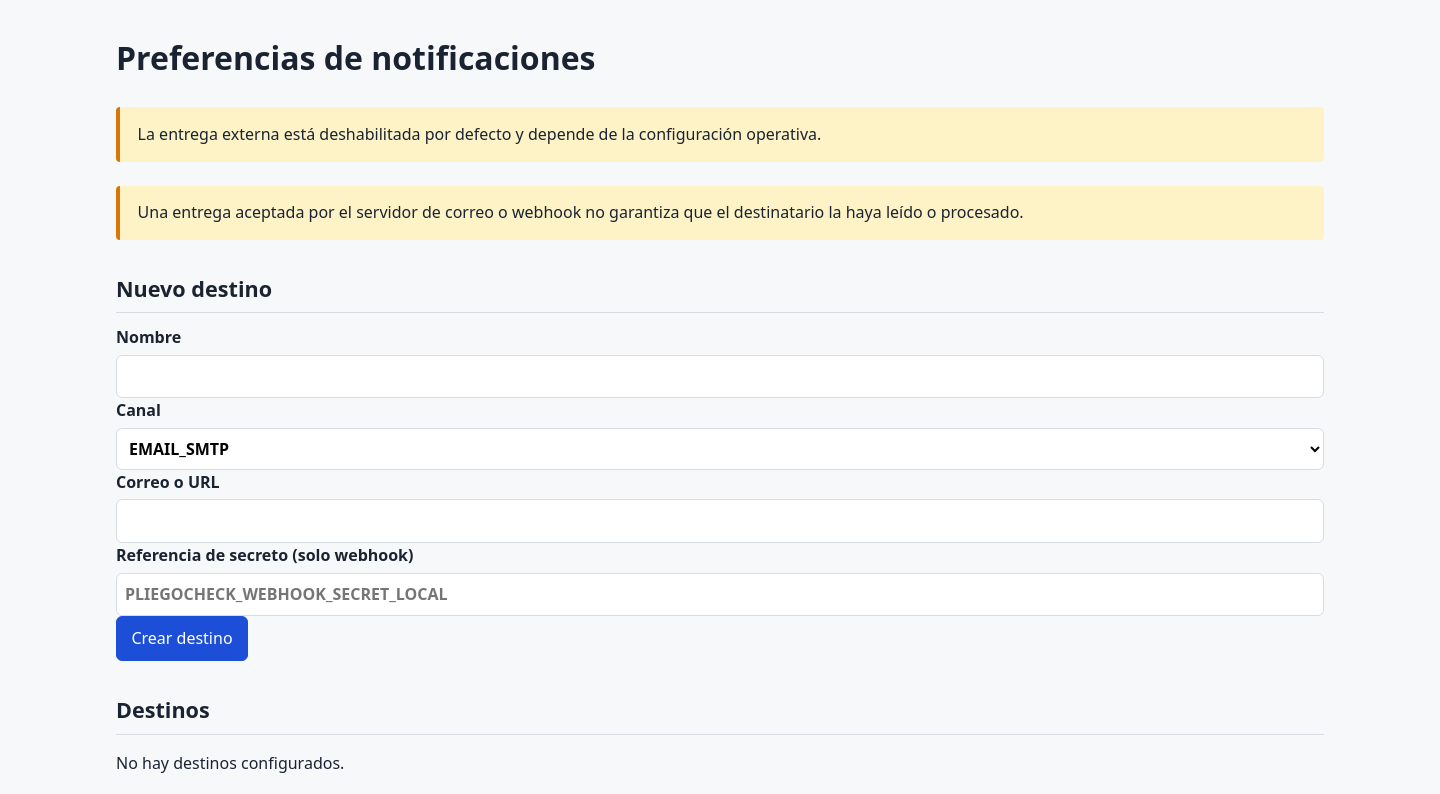
Test case: entrega de notificaciones › crea un destino y refresca el formulario tras la respuesta asíncrona
Check: the text "No hay destinos configurados." is shown, box 116,752 -> 344,774
Type "Mailpit sintético" into the field labelled "Nombre". click: (720, 376)
box: 116,355 -> 1324,398
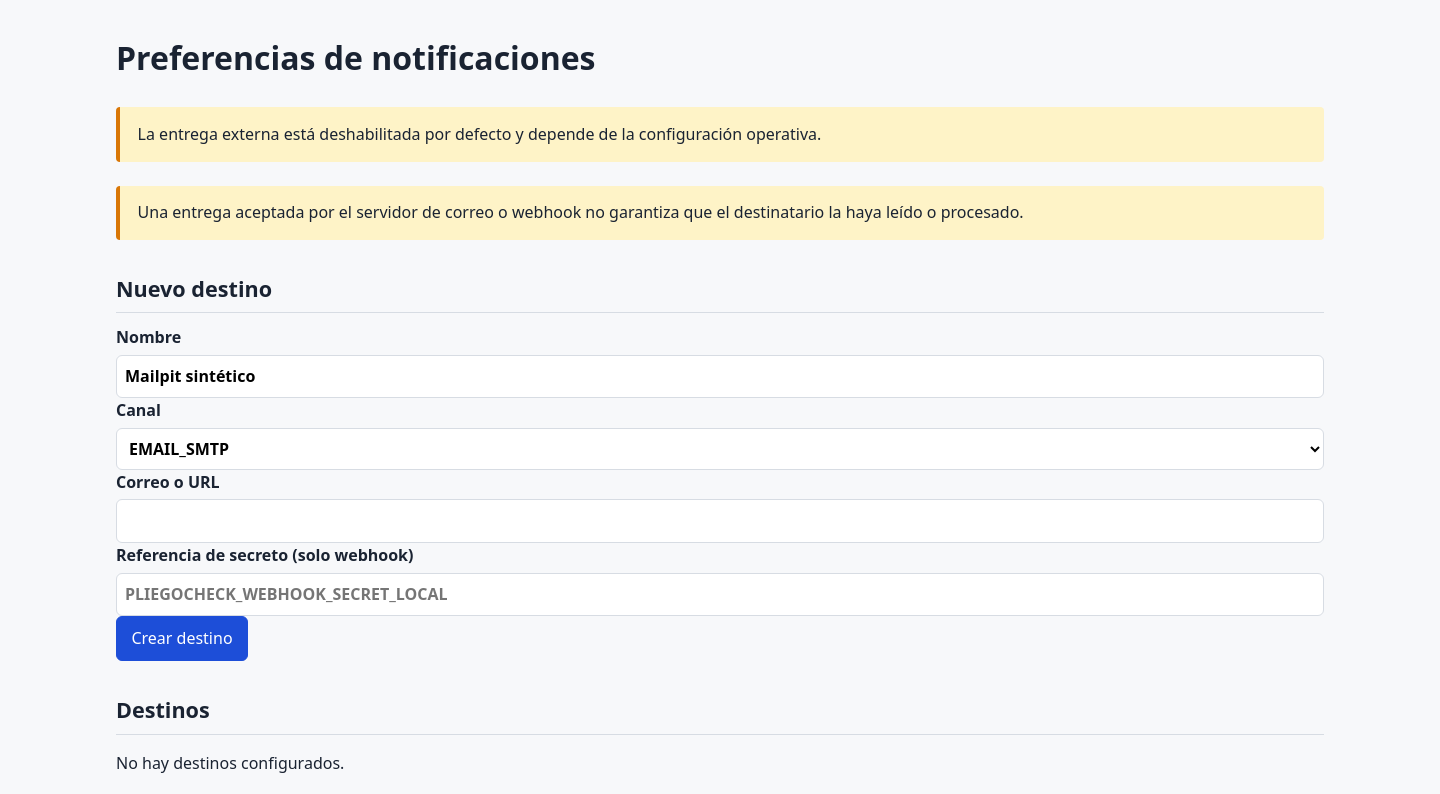
Type "pilot@example.test" into the field labelled "Correo o URL". click: (720, 521)
box: 116,500 -> 1324,543
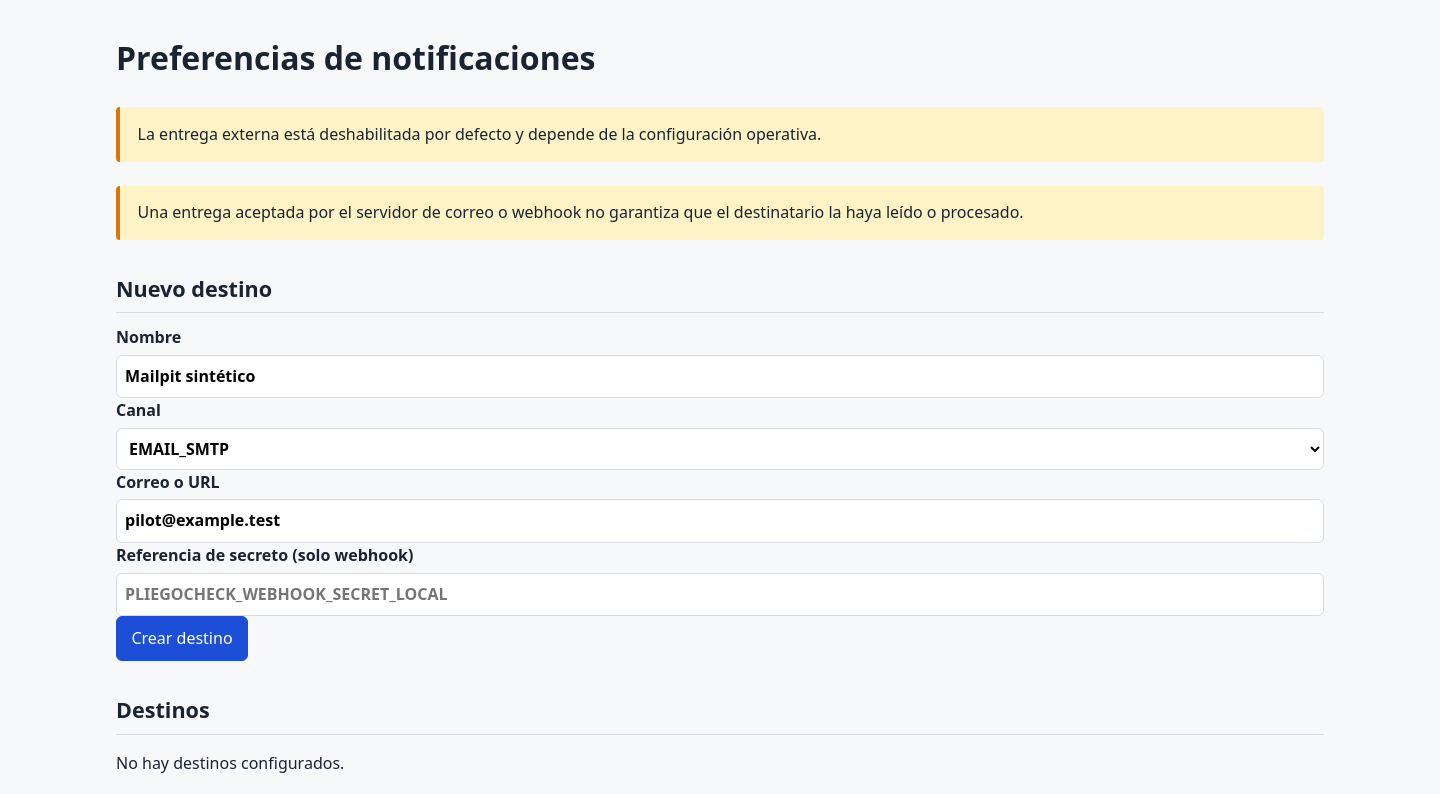
Click the button "Crear destino". click: (182, 639)
box: 116,616 -> 248,661
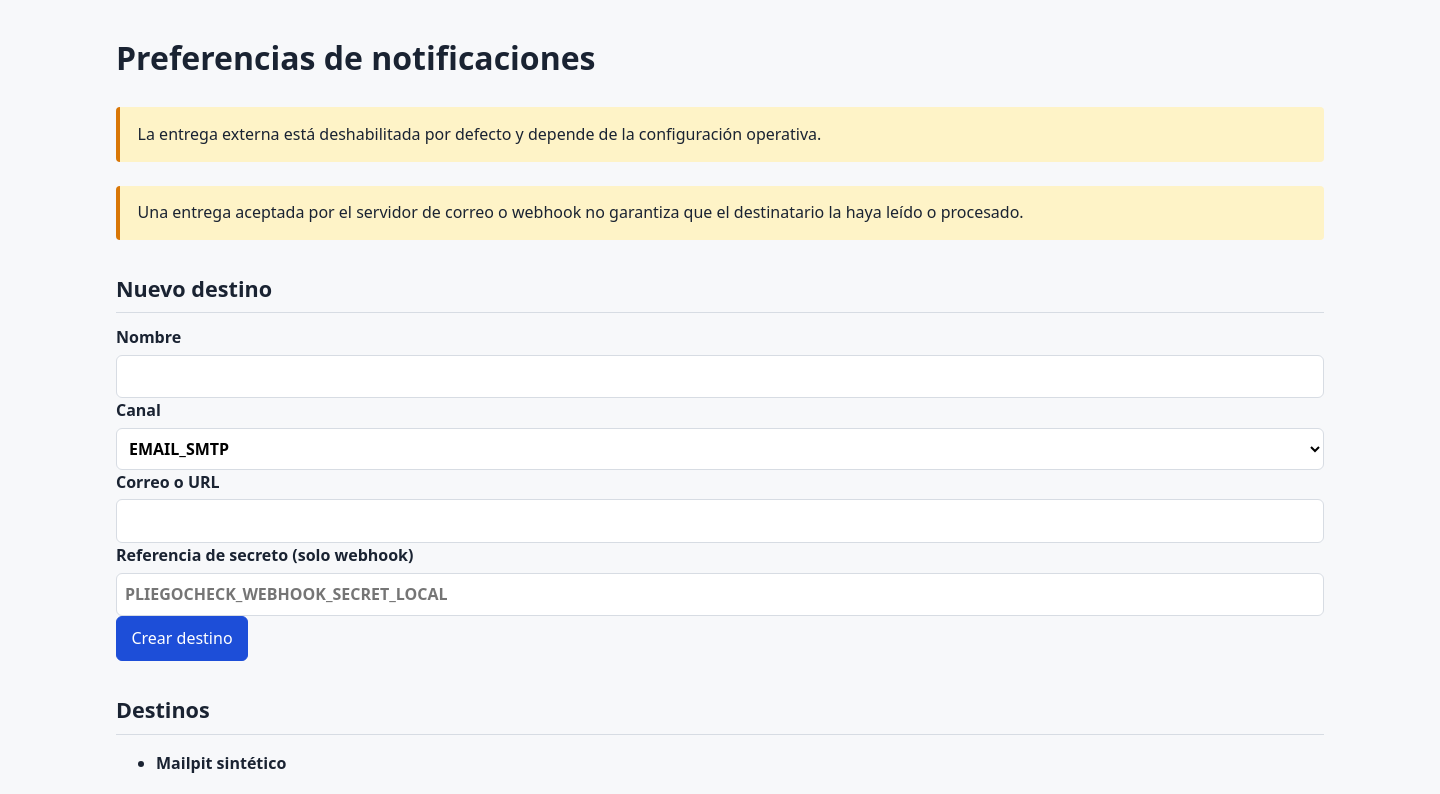
Check: the text "Mailpit sintético" is shown 2 times
Check: the field labelled "Nombre" is empty, box 116,355 -> 1324,398
